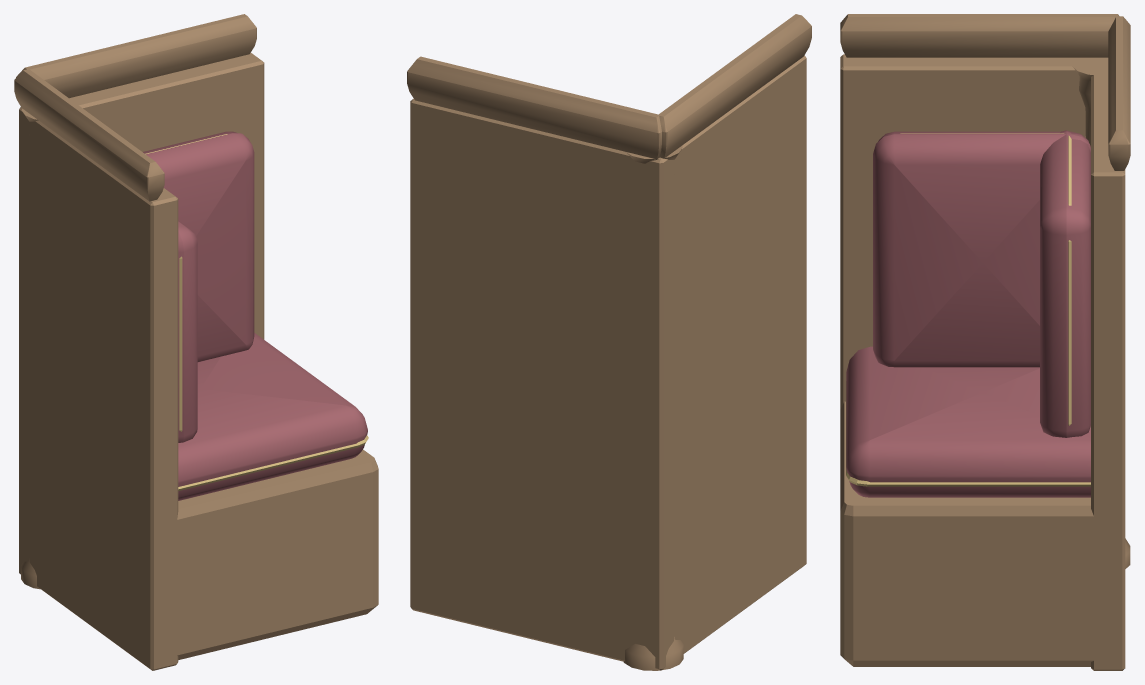
The model's file is bar-pub-and-brewery-taproom-banquette-corner-9fb70943__18378.glb.
The picture shows the model from 3 angles, left to right: view 1: azimuth 30°, elevation 25°; view 2: azimuth 150°, elevation 25°; view 3: azimuth 270°, elevation 25°; orthographic projection. The views are drawn at different scales.
Visible parts, largest first — view 1: banquette-corner; view 2: banquette-corner; view 3: banquette-corner.
Part boxes in pixels (box(x1,y1,x2,y2)): banquette-corner: box(14, 14, 378, 670); banquette-corner: box(407, 14, 811, 670); banquette-corner: box(840, 14, 1130, 670).
Bounding box in the file's own units: 0.5916 × 1.21 × 0.5904.
